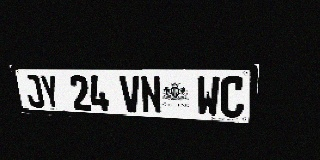2: (69, 75, 92, 111)
4: (87, 75, 110, 111)
C: (220, 76, 245, 118)
J: (22, 74, 45, 108)
N: (140, 75, 162, 114)
V: (119, 75, 142, 113)
W: (197, 76, 220, 117)
Y: (39, 75, 62, 109)
